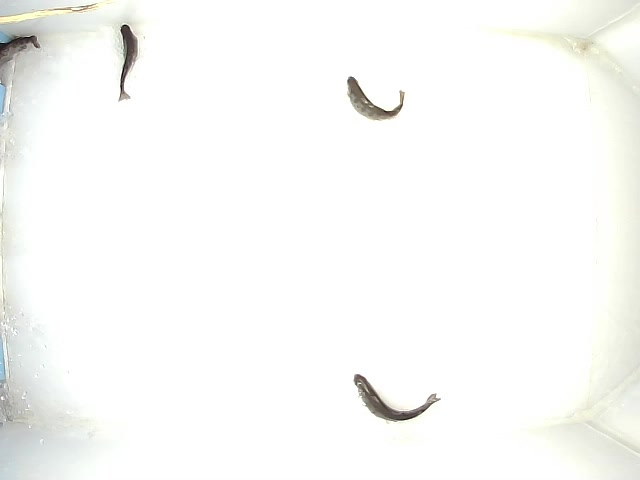fish: (352, 373, 441, 424), (345, 76, 405, 122), (117, 23, 140, 104)
